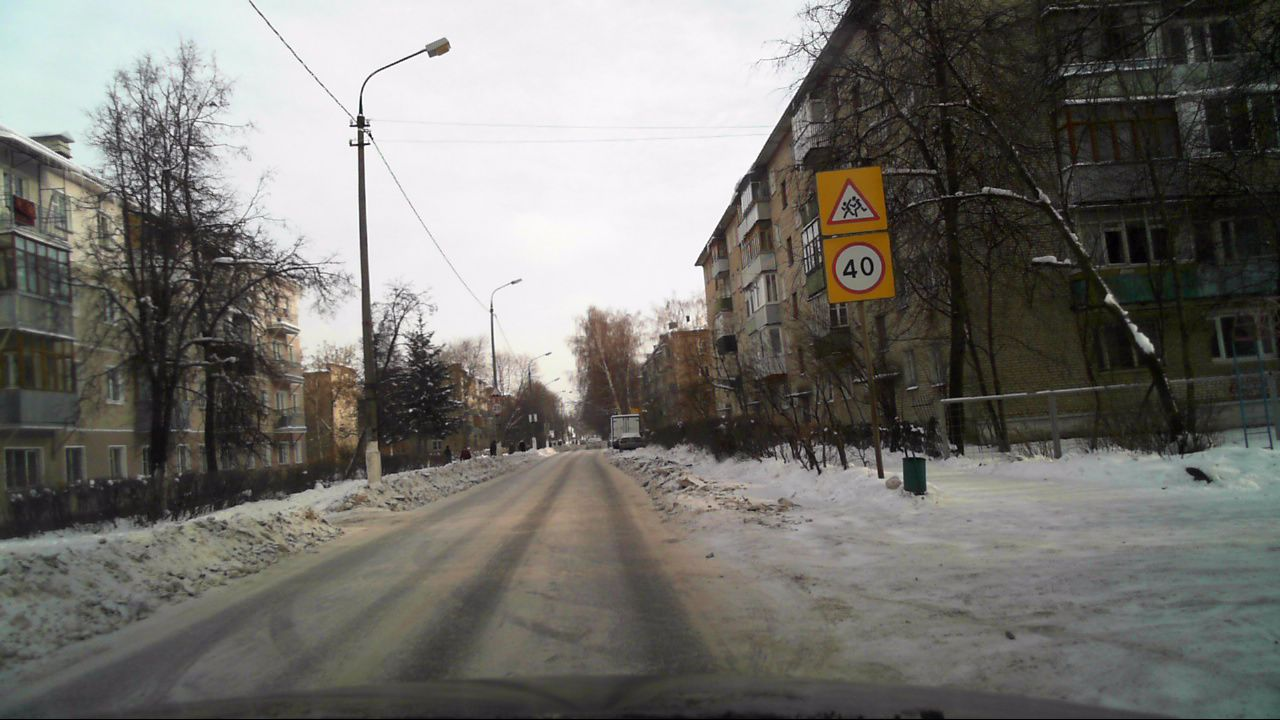speed_warning_40: (823, 233, 894, 303)
